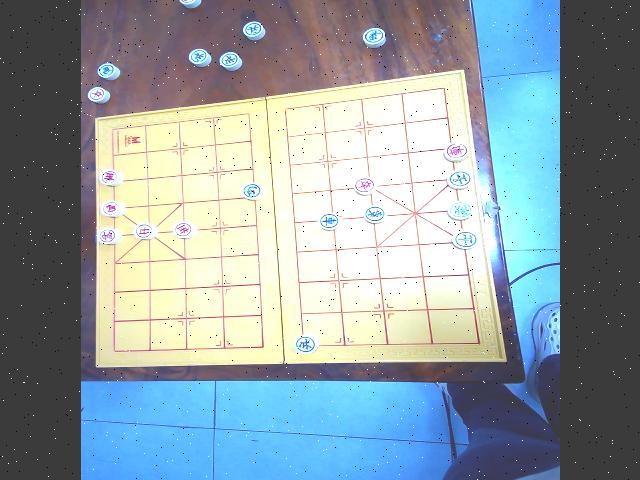piece: (444, 201, 472, 220), (450, 230, 478, 249), (442, 142, 468, 162), (292, 334, 318, 354), (360, 27, 386, 47), (446, 170, 472, 189), (130, 222, 156, 240), (218, 51, 242, 70), (98, 200, 124, 217), (352, 177, 376, 195), (86, 86, 110, 104), (240, 21, 264, 39), (170, 222, 196, 238), (98, 168, 121, 186), (187, 48, 210, 66), (361, 205, 385, 222), (316, 212, 340, 229), (95, 63, 118, 80), (96, 228, 120, 244), (240, 183, 264, 199), (176, 0, 200, 8)
